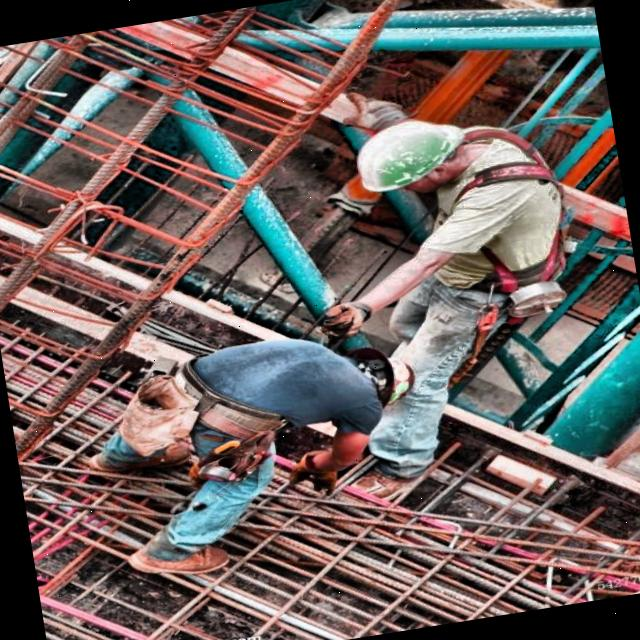helmet: (329, 103, 496, 218), (330, 331, 432, 420)
